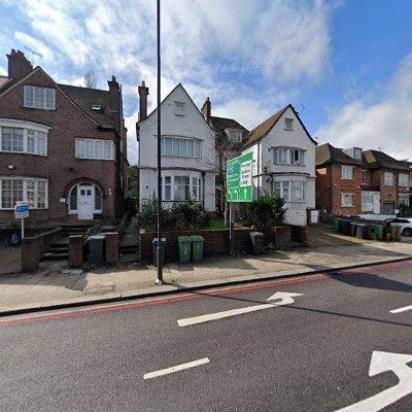stationary-car-offstreet: (384, 216, 410, 236)
